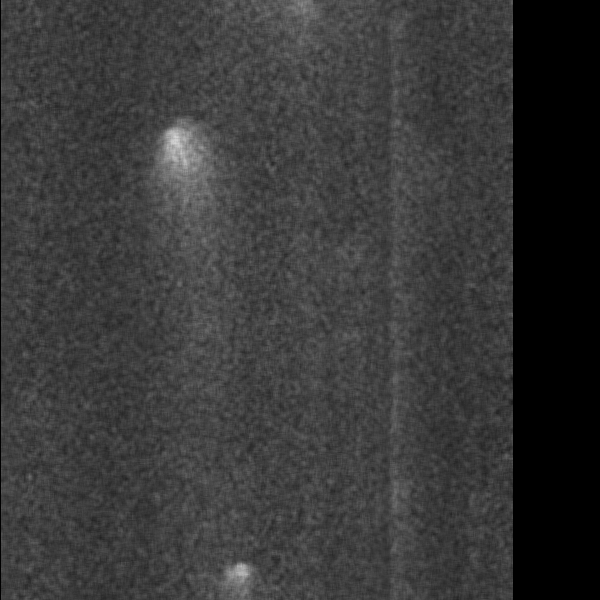spark: (153, 117, 201, 265), (218, 560, 258, 600)
